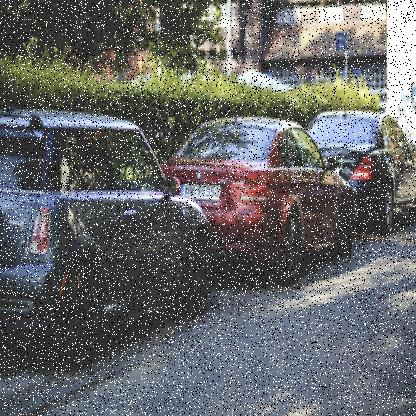licence: (181, 176, 221, 203)
